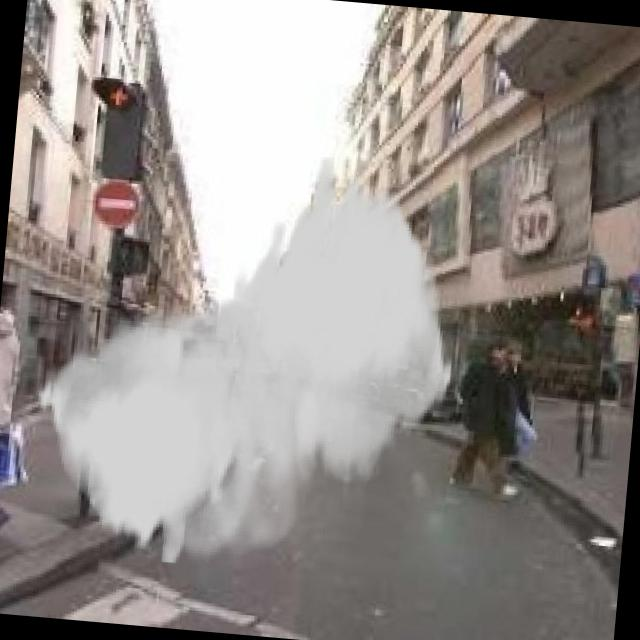Smoke: (22, 133, 471, 588)
